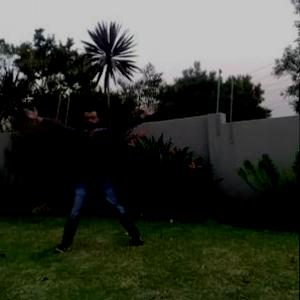takeoff: (39, 99, 175, 255)
